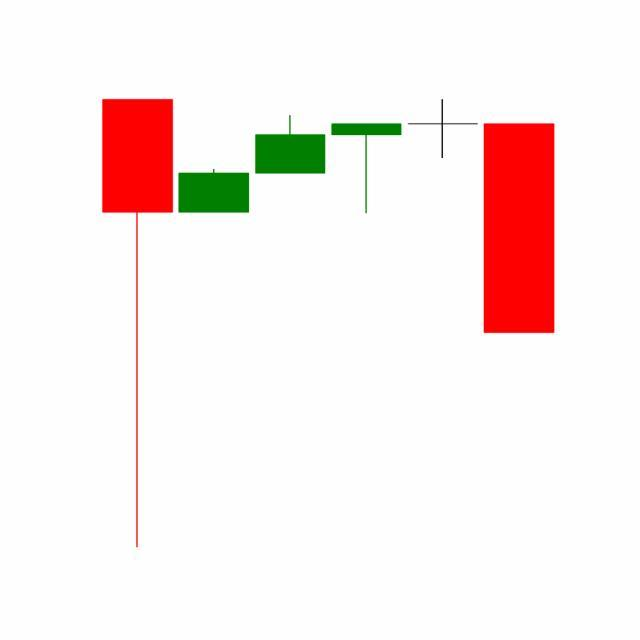Spinning Top: (404, 99, 482, 160)
